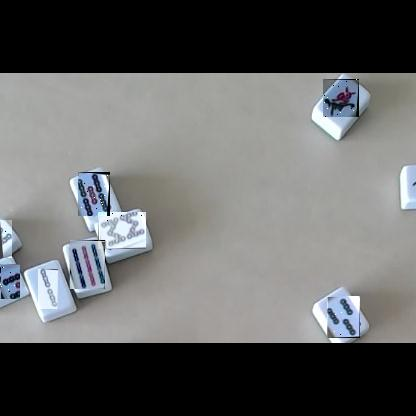1s: (323, 79, 359, 117)
2s: (38, 269, 58, 309)
3s: (327, 296, 360, 338)
5s: (78, 172, 110, 216), (0, 264, 20, 299)
8s: (98, 212, 146, 249), (0, 220, 12, 258)
9s: (69, 240, 105, 289)
